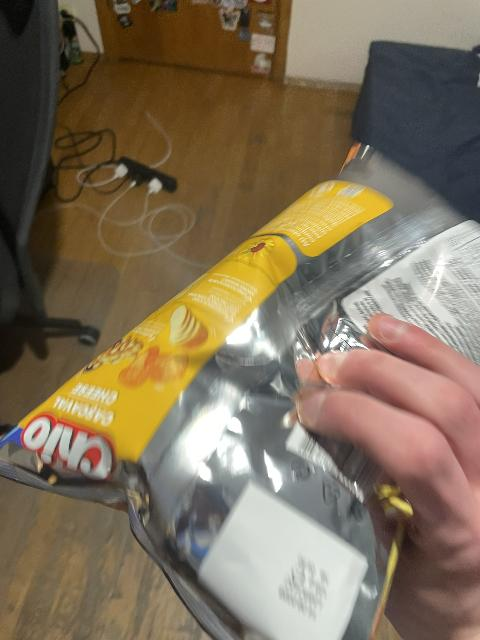Chio Cascaval 125g: (6, 145, 480, 640)
